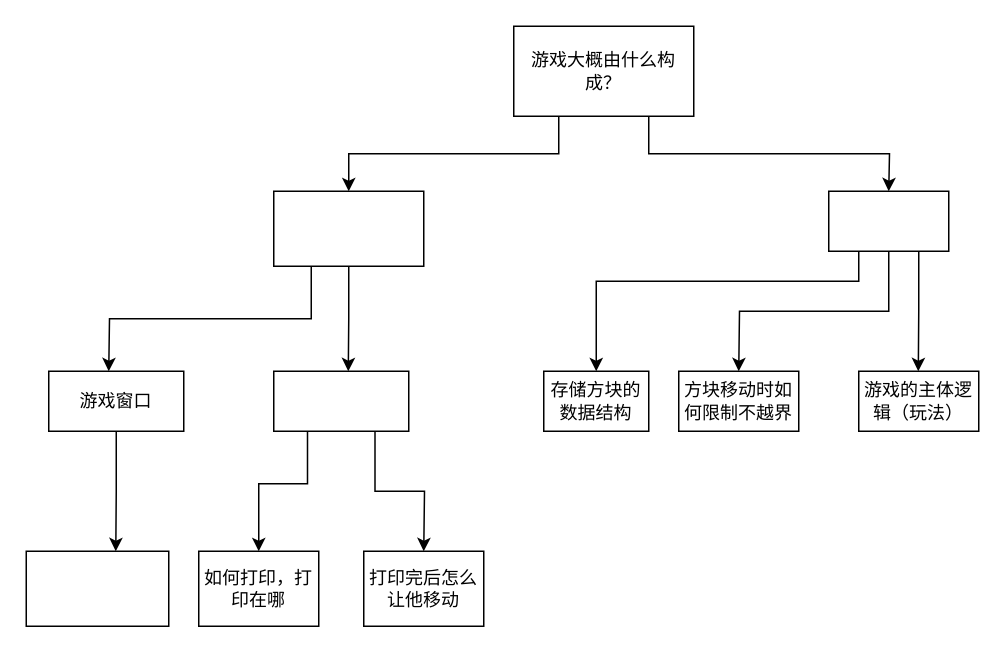
Image size: 1005x653. Some labels were removed from this diagram. The shapes that lost their labels are listed below. From the top down, each one's centre as x and y in pixels, then its label:
At point (348, 228): "图形界面".
At point (888, 220): "数据、逻辑结构".
At point (340, 400): "方块打印".
At point (97, 588): "采用一个大的实心方块来打印游戏窗口".
